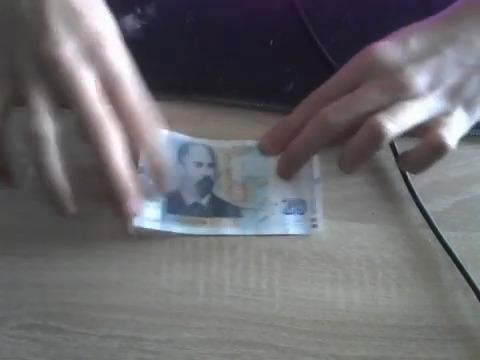20leva: (128, 141, 322, 237)
